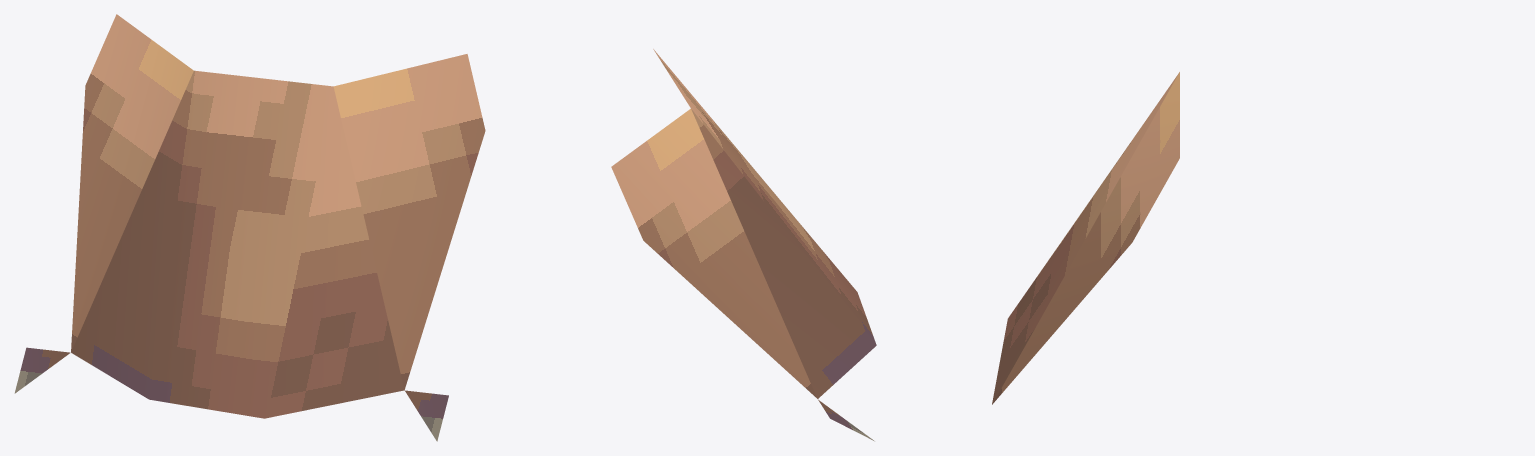
The picture shows the model from 3 angles, left to right: view 1: azimuth 30°, elevation 25°; view 2: azimuth 150°, elevation 25°; view 3: azimuth 270°, elevation 25°; orthographic projection. The views are drawn at different scales.
Bounding box in the file's own units: 1.5 × 0.9971 × 1.5.
2 materials, 2 textured.
